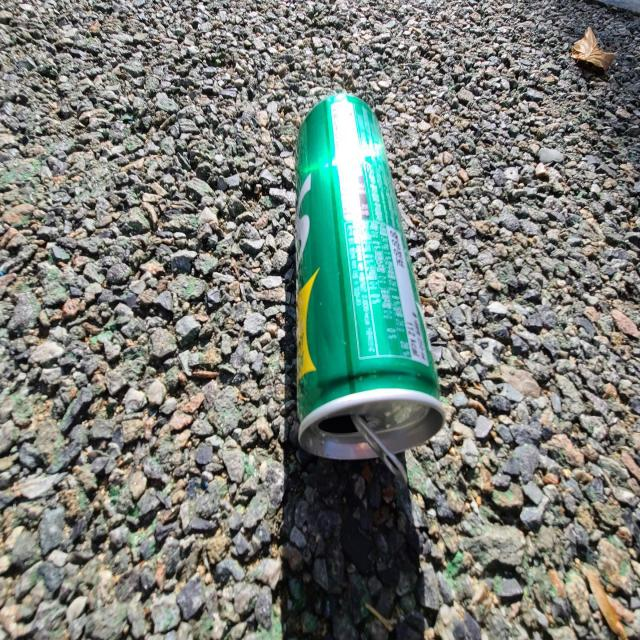can: (295, 93, 445, 483)
